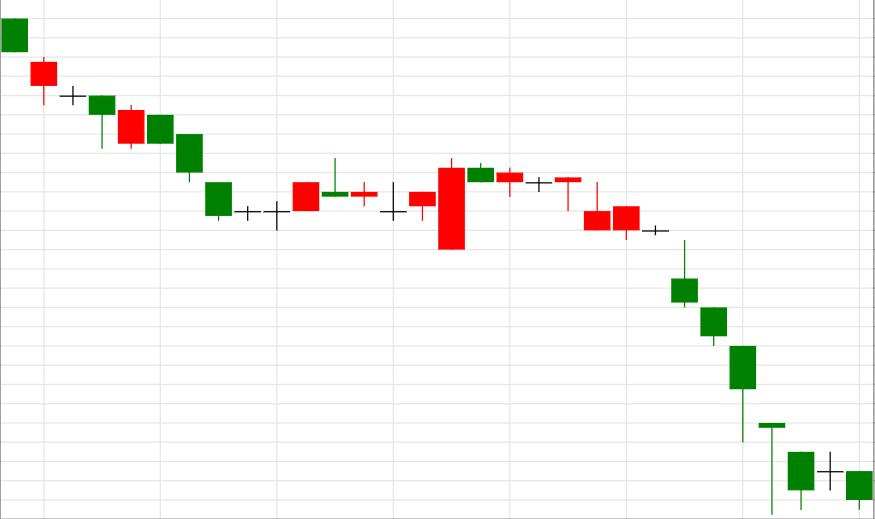hammer_rise: (468, 162, 756, 442)
